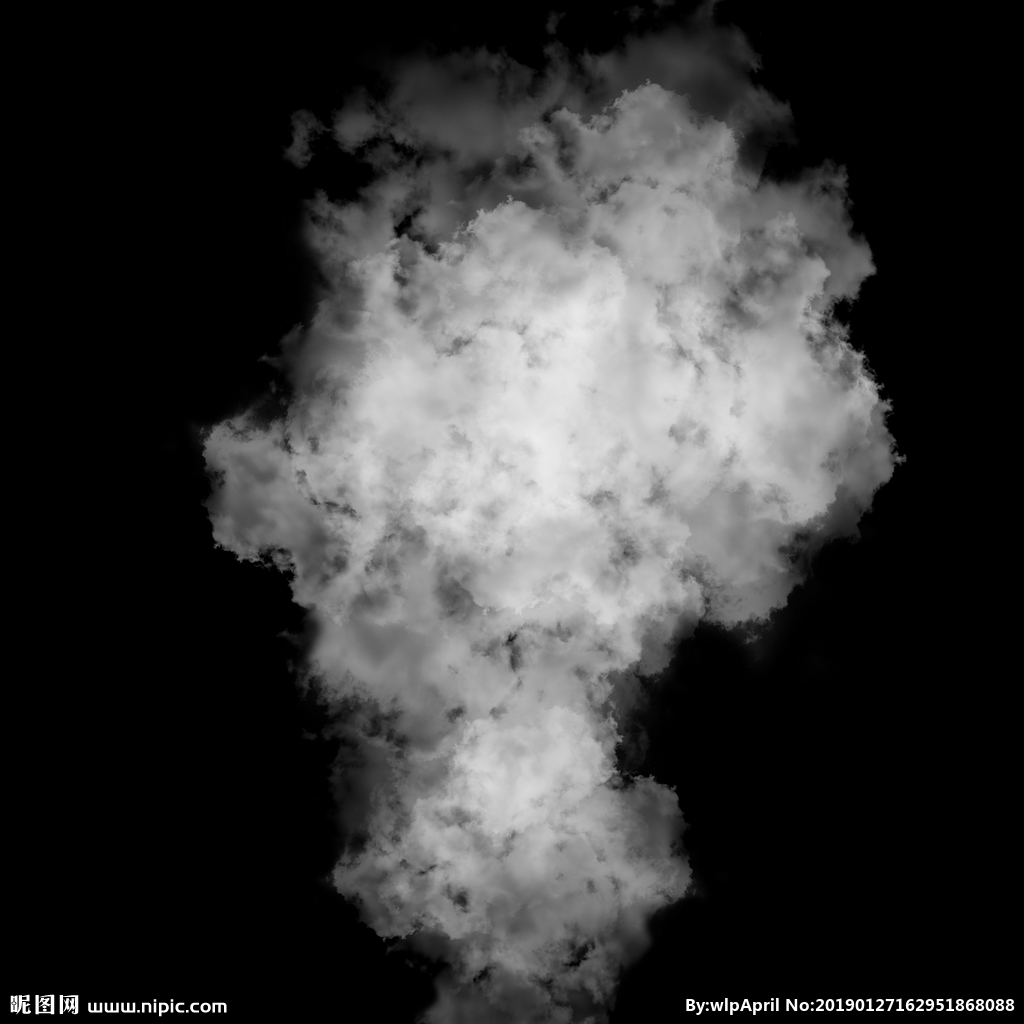smoke: (257, 33, 911, 964), (557, 113, 898, 692)
